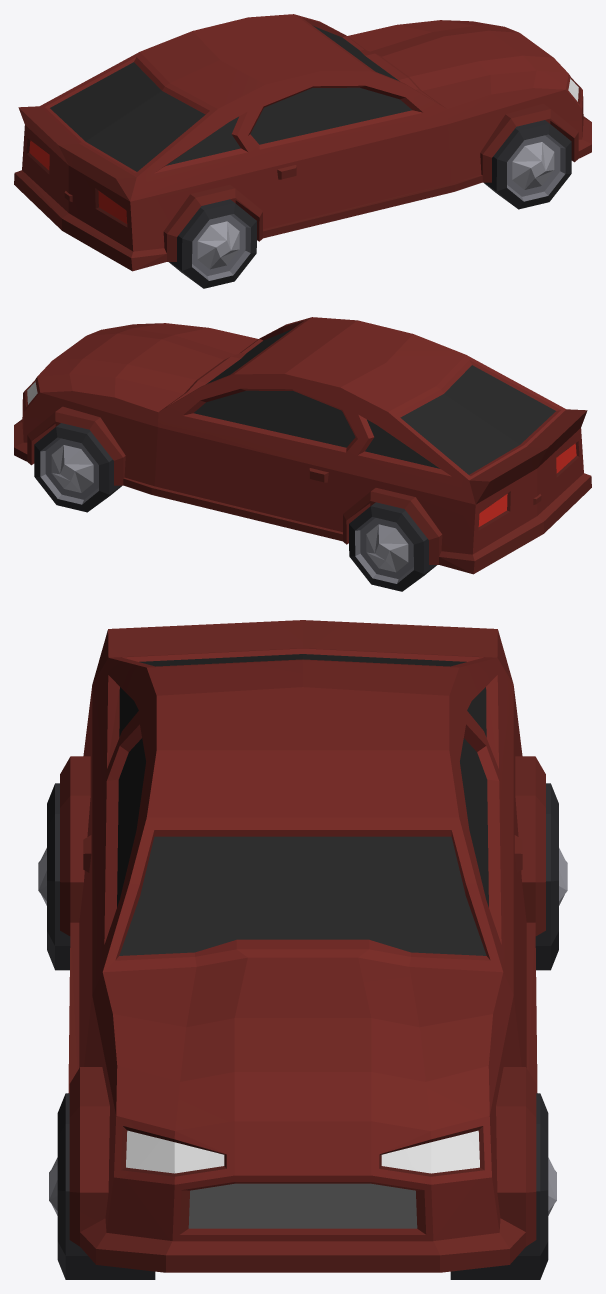
Rendered from carTEST.fbx.
The picture shows the model from 3 angles, top to bottom: view 1: azimuth 30°, elevation 25°; view 2: azimuth 150°, elevation 25°; view 3: azimuth 270°, elevation 25°; orthographic projection. The views are drawn at different scales.
Parts seen in each view (by area): view 1: car7.002, car7_wheel_BL.002, car7_wheel_FR.002; view 2: car7.002, car7_wheel_BL.002, car7_wheel_FR.002; view 3: car7.002, car7_wheel_FR.002, car7_wheel_BL.002.
Boxes of the visible parts, x1,y1,x2,y2 form: car7.002: (14, 14, 591, 271); car7_wheel_BL.002: (169, 199, 256, 288); car7_wheel_FR.002: (484, 120, 571, 209); car7.002: (14, 317, 591, 574); car7_wheel_BL.002: (349, 502, 436, 591); car7_wheel_FR.002: (34, 423, 121, 512); car7.002: (60, 620, 545, 1272); car7_wheel_FR.002: (49, 1093, 556, 1279); car7_wheel_BL.002: (38, 783, 567, 970).
Bounding box in the file's own units: 713 × 225 × 327.
